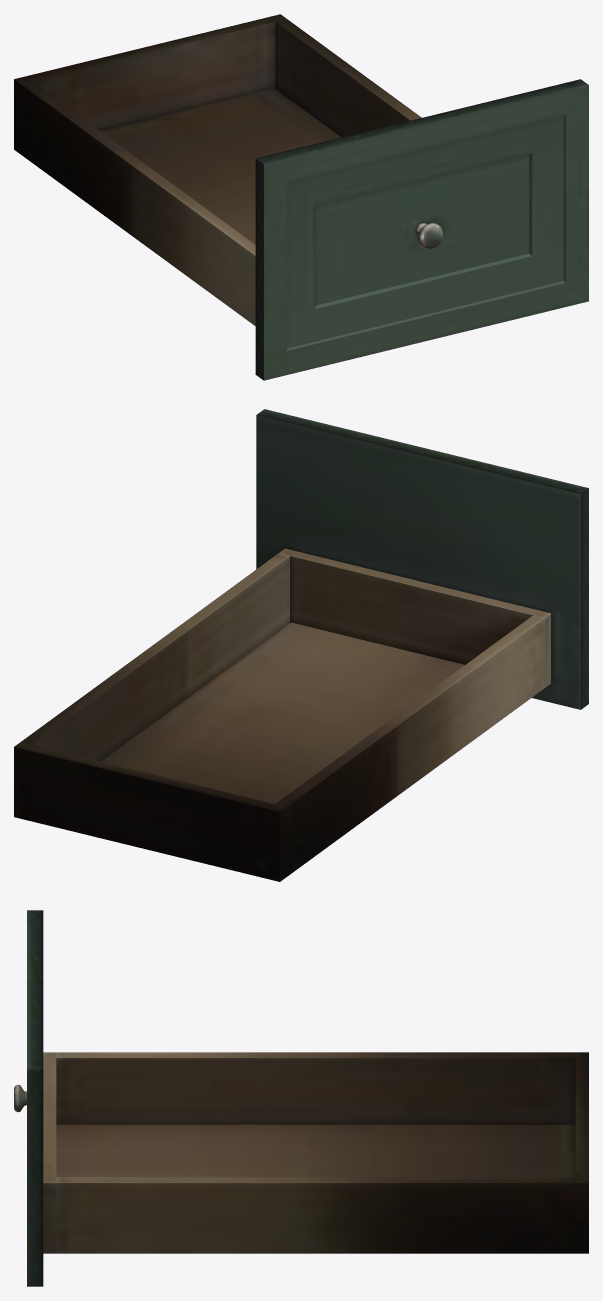
Rendered from Drawer_Middle_Left.gltf.
3 renders of one model, top to bottom at view 1: azimuth 30°, elevation 25°; view 2: azimuth 150°, elevation 25°; view 3: azimuth 270°, elevation 25°, orthographic.
Visible parts, largest first — view 1: Drawer_Top_Left; view 2: Drawer_Top_Left; view 3: Drawer_Top_Left.
Boxes of the visible parts, x1,y1,x2,y2 form: Drawer_Top_Left: (14,14,588,380); Drawer_Top_Left: (14,409,588,881); Drawer_Top_Left: (14,910,588,1286).
Size of the model in its own units: 443 by 282 by 675.
3 materials, 3 textured.
